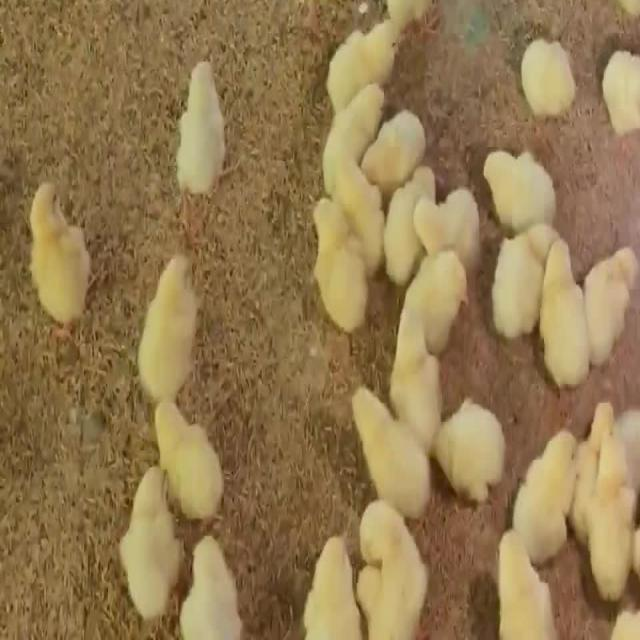poussin: (124, 263, 200, 417), (357, 392, 445, 524), (19, 172, 94, 318), (356, 500, 429, 640), (119, 456, 179, 619), (146, 398, 226, 518), (509, 428, 580, 561), (487, 498, 550, 640), (486, 200, 556, 326), (588, 417, 640, 582), (424, 399, 516, 486), (578, 230, 638, 363), (382, 294, 438, 436), (530, 249, 588, 386), (299, 524, 367, 640), (312, 196, 370, 331), (170, 56, 224, 198), (322, 8, 411, 91), (182, 525, 246, 640), (398, 245, 474, 336), (480, 136, 566, 210), (310, 126, 384, 208), (386, 165, 438, 278), (572, 390, 616, 522), (513, 34, 581, 111), (414, 183, 482, 259), (366, 93, 424, 182), (600, 33, 640, 140), (327, 65, 382, 124)
